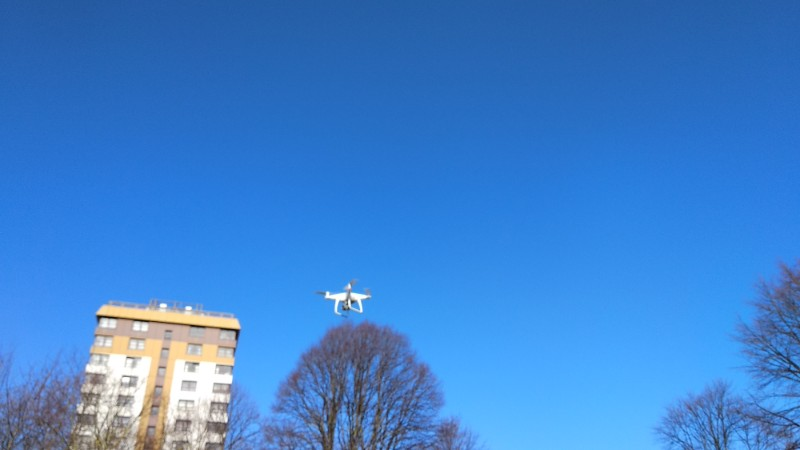drone: (314, 278, 378, 318)
